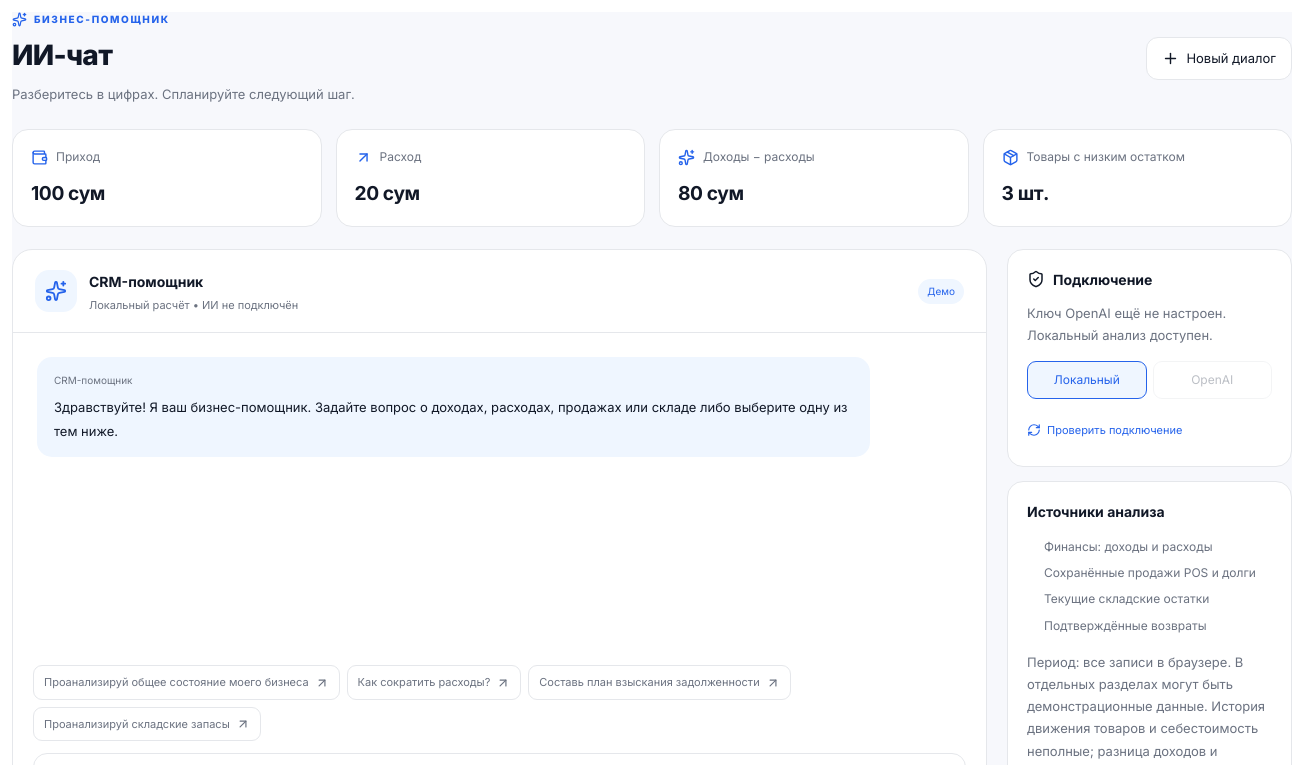
Russian quick question and local answer use Russian without changing the user message
Click the button "Как сократить расходы?" at coordinates (434, 683), box [347,665,521,700]
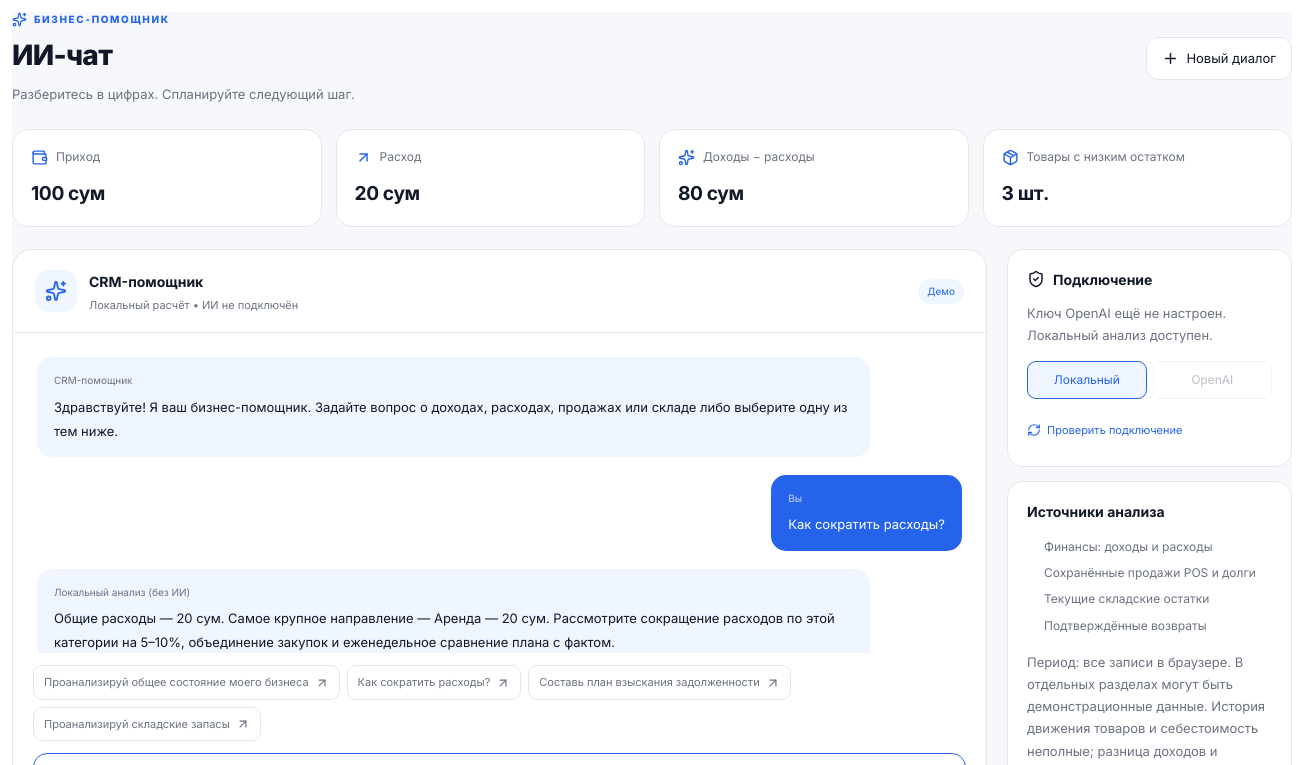
Check: the element with class "ai-message-user" shows "Как сократить расходы?", box [788,516,945,532]
Check: the element with class "ai-message-assistant" shows "Общие расходы", box [54,610,838,650]
Check: the element with class "ai-message-assistant" shows "Аренда — 20 сум", box [54,610,838,650]
